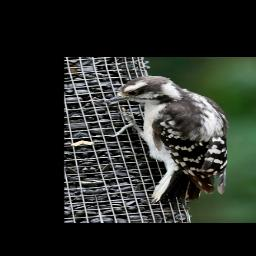Woodpecker: (94, 70, 248, 211)
